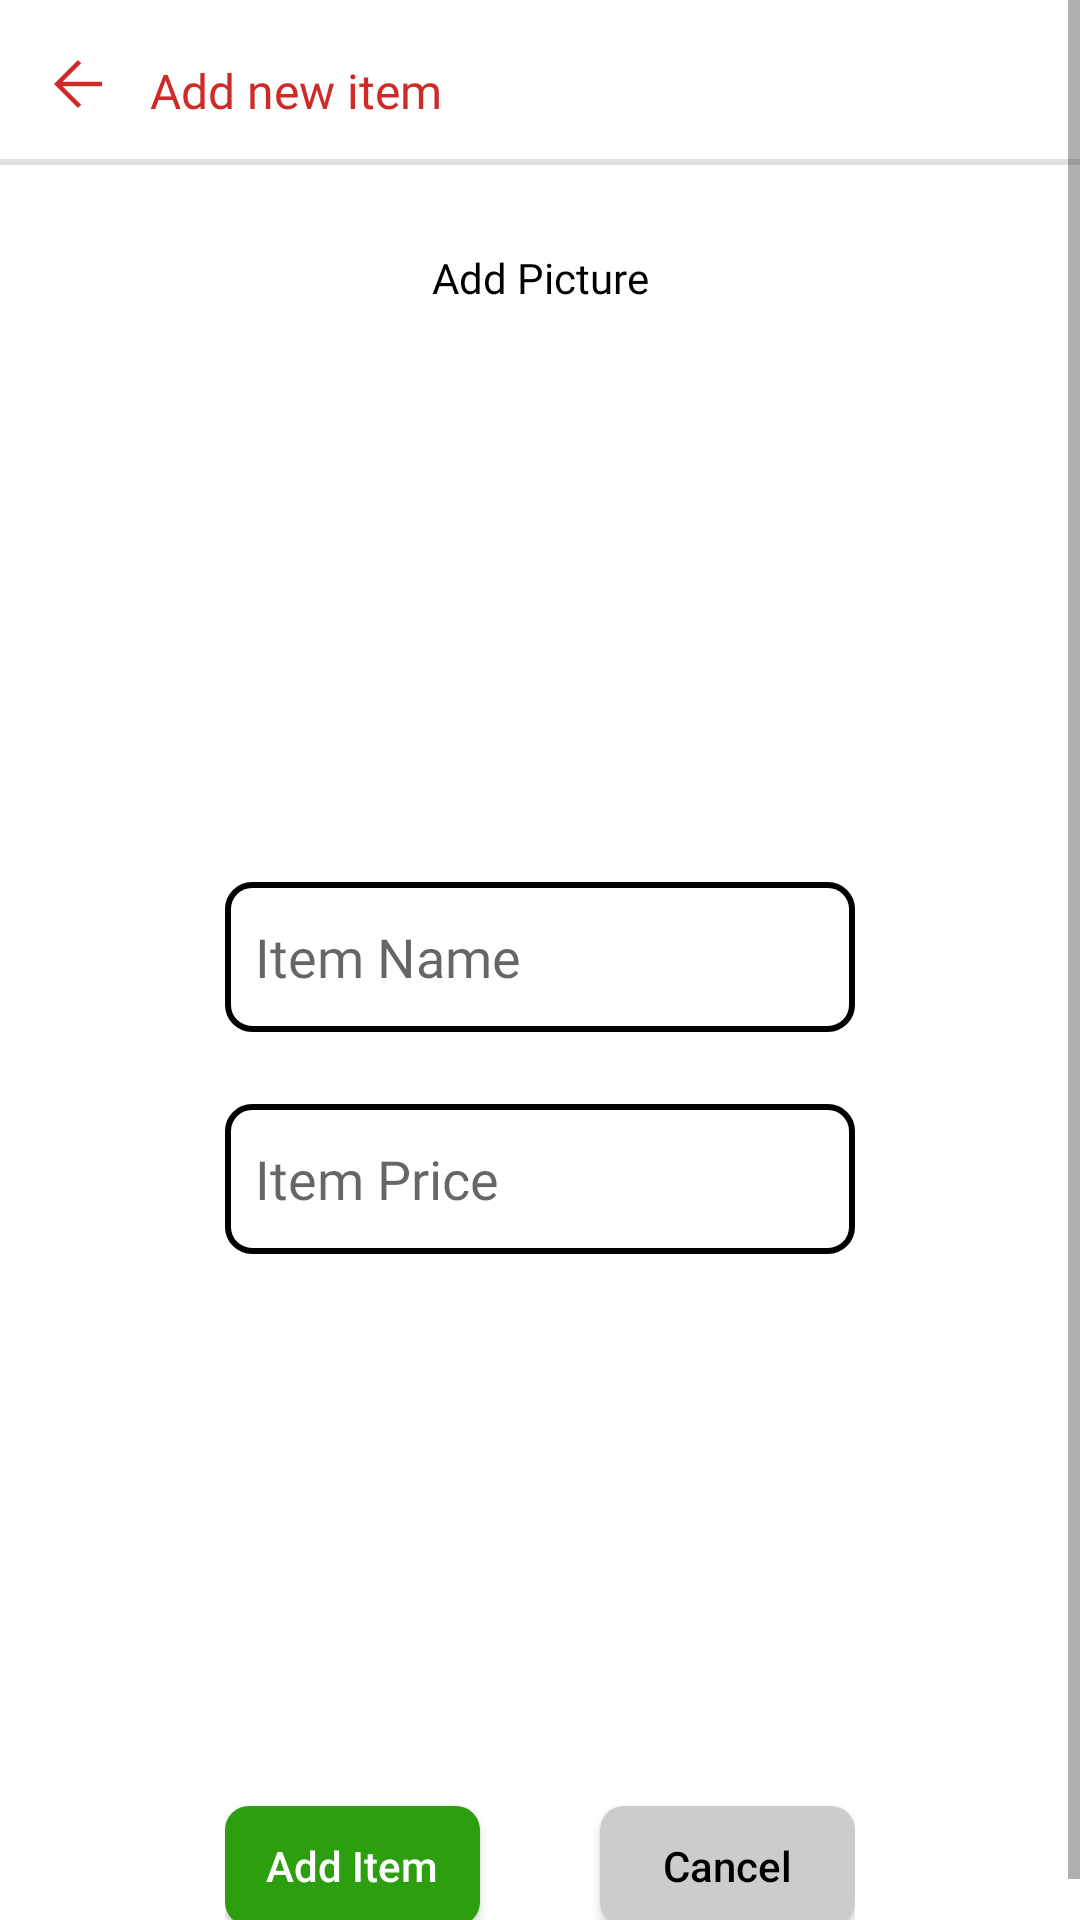

Where to tap for icons on this 1080 x 1920 app screen, as (x=x, y=y):
arrow back: (x=78, y=84)
